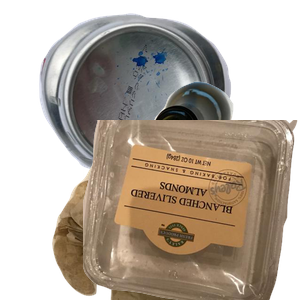glass: (151, 79, 300, 221)
metal: (37, 11, 261, 180)
plastic: (83, 120, 300, 300)
trash: (50, 120, 285, 300)
